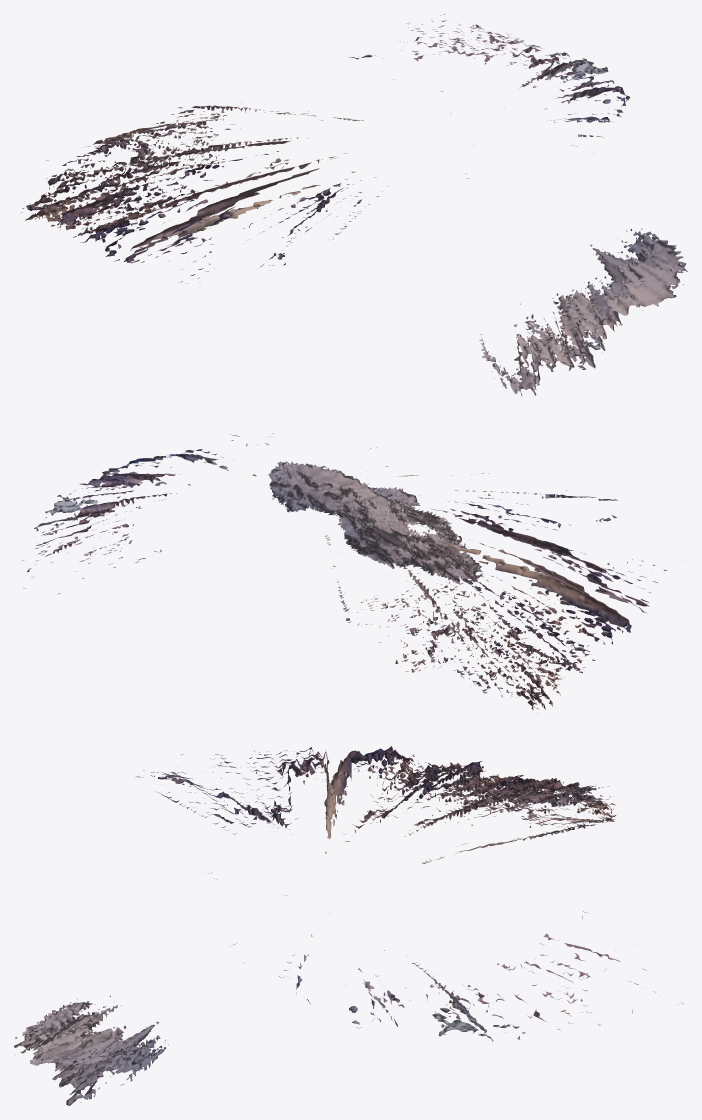
The model's file is world-1770286501141.glb.
The picture shows the model from 3 angles, top to bottom: view 1: azimuth 30°, elevation 25°; view 2: azimuth 150°, elevation 25°; view 3: azimuth 270°, elevation 25°; orthographic projection. The views are drawn at different scales.
Visible parts, largest first — view 1: world; view 2: world; view 3: world.
Part boxes in pixels (bbox=[...]): world: bbox=[21, 14, 687, 395]; world: bbox=[22, 433, 682, 710]; world: bbox=[14, 746, 682, 1105].
Size of the model in its own units: 252 by 73.98 by 227.
